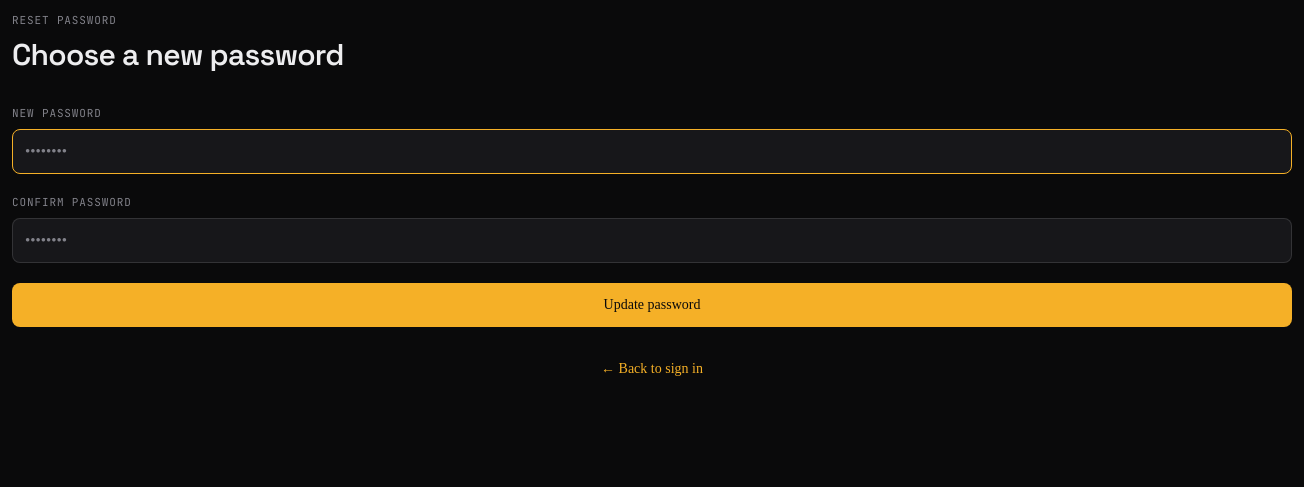
Test: ResetPasswordPage › maps an expired recovery session to friendly copy with a re-request link
In the password field labelled "New password": {"x": 652, "y": 151} [12,129,1292,174], type "long-enough-pw"
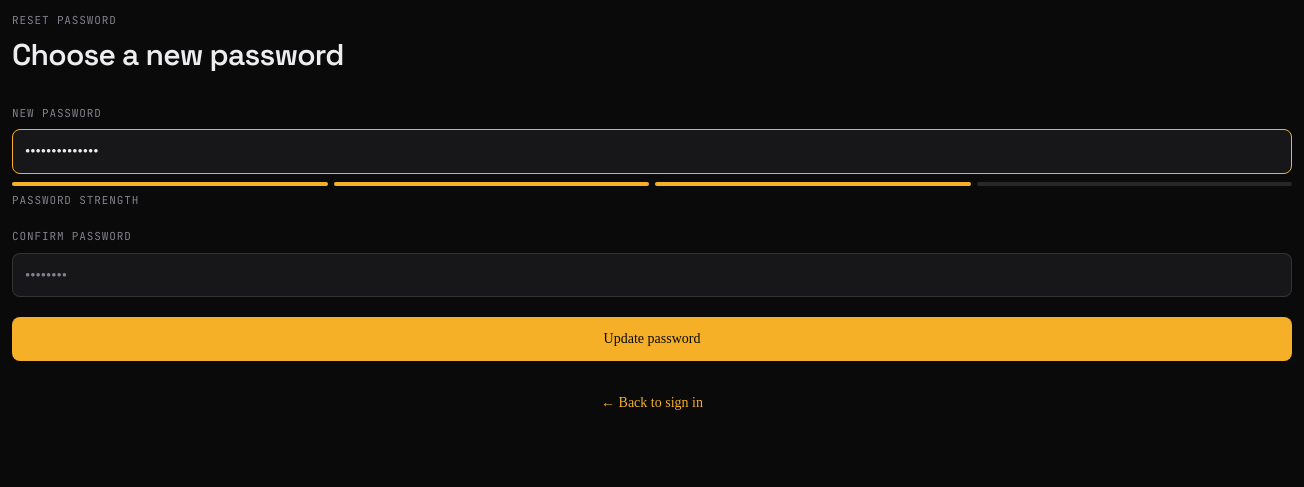
In the password field labelled "Confirm password": {"x": 652, "y": 275} [12,252,1292,297], type "long-enough-pw"
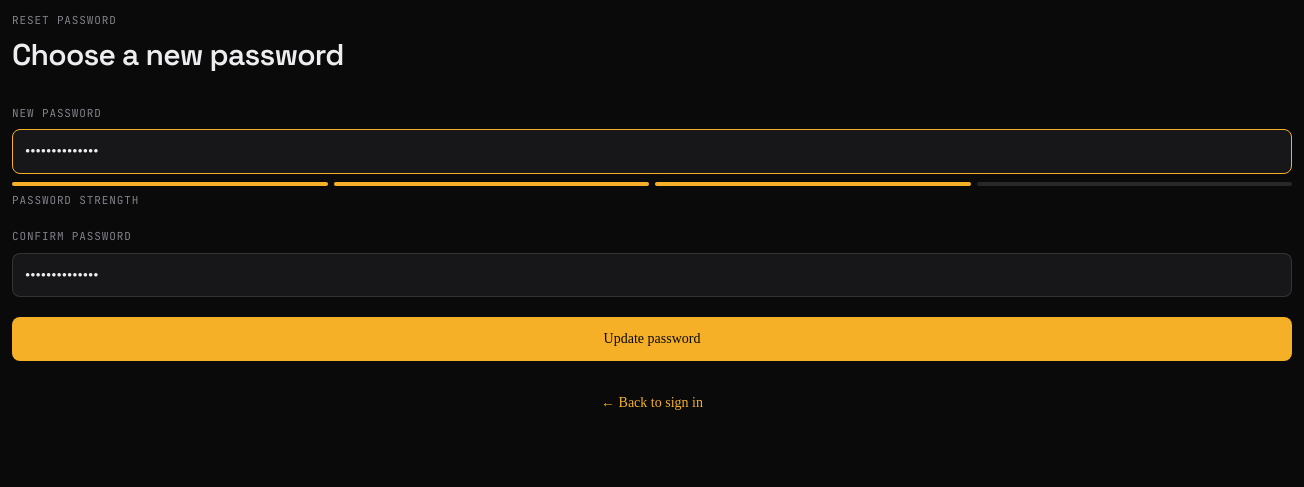
Click the button "Update password": {"x": 652, "y": 339} [12,317,1292,361]
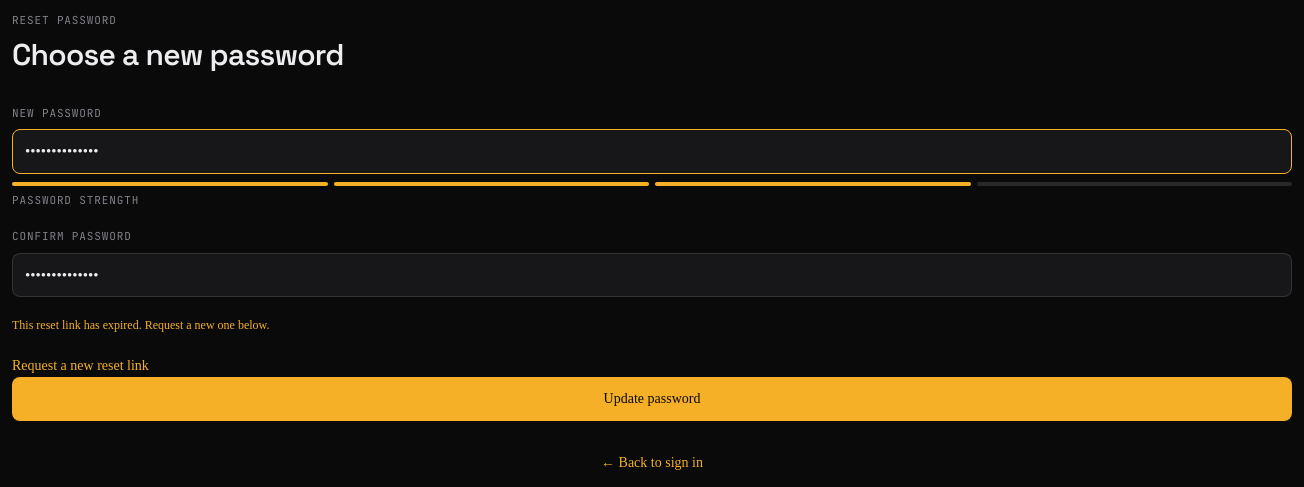
Expected: the text "This reset link has expired. Request a new one below." is shown, [12,318,270,332]
